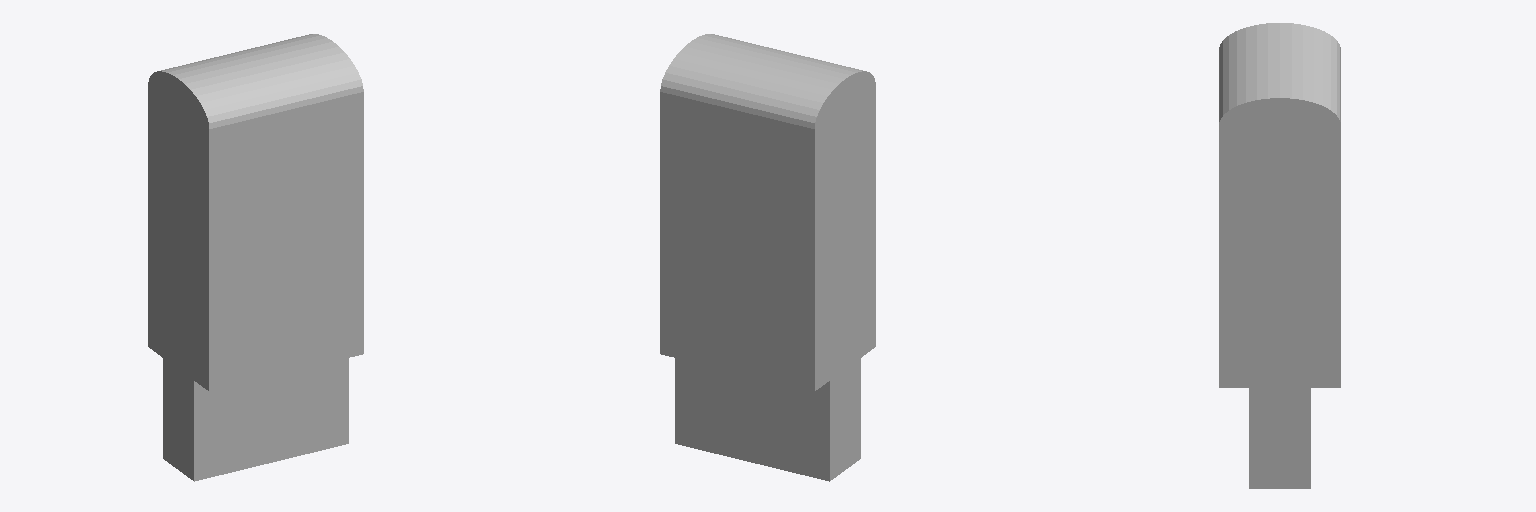
The model's file is body_l_distal_pinvround.obj.
The picture shows the model from 3 angles: view 1: azimuth 30°, elevation 25°; view 2: azimuth 150°, elevation 25°; view 3: azimuth 270°, elevation 25°; orthographic projection.
Parts seen in each view (by area): view 1: body_l_distal_pinvround_Cube.002; view 2: body_l_distal_pinvround_Cube.002; view 3: body_l_distal_pinvround_Cube.002.
Boxes of the visible parts, x1,y1,x2,y2 form: body_l_distal_pinvround_Cube.002: [148, 34, 363, 481]; body_l_distal_pinvround_Cube.002: [660, 34, 875, 481]; body_l_distal_pinvround_Cube.002: [1219, 23, 1340, 488].
Bounding box in the file's own units: 0.032 × 0.0775 × 0.022.